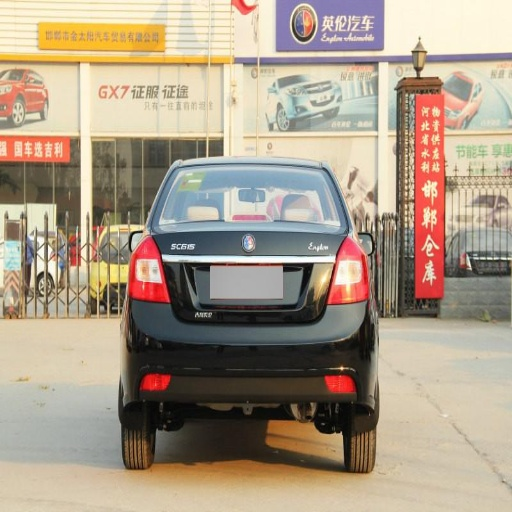back_bumper: (122, 297, 375, 419)
